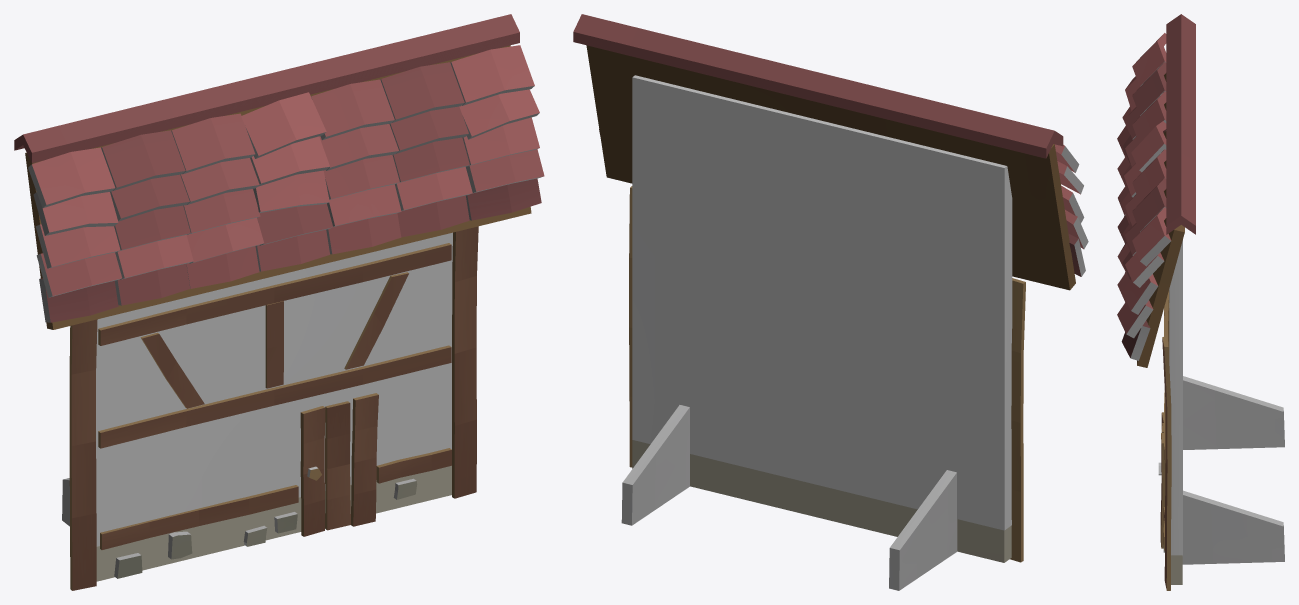
File: paper house plane 1.fbx
3 views of the same model, side by side, from view 1: azimuth 30°, elevation 25°; view 2: azimuth 150°, elevation 25°; view 3: azimuth 270°, elevation 25° (orthographic). The views are drawn at different scales.
Parts seen in each view (by area): view 1: Cube.071, Cube.264, Cube.080, Cube.244, Cube.306, Cube.245, Cube.076, Cube.082, Cube.246, Cube.079, Cube.260, Cube.240 (+22 smaller); view 2: Cube.071, Cube.243, Cube.264, Cube.248, Cube.306, Cube.080; view 3: Cube.248, Cube.264, Cube.071, Cube.244, Cube.243, Cube.245, Cube.246, Cube.080, Cube.247, Cube.079, Cube.256, Cube.260 (+8 smaller).
Part boxes in pixels (x1,y1,x2,y2): Cube.071: (96,232,452,546); Cube.264: (14,14,519,163); Cube.080: (69,226,478,590); Cube.244: (28,45,534,208); Cube.306: (96,465,451,581); Cube.245: (101,62,464,190); Cube.076: (98,345,451,448); Cube.082: (98,243,451,345); Cube.246: (171,79,394,174); Cube.079: (33,89,539,235); Cube.260: (35,117,539,268); Cube.240: (110,106,468,221); Cube.071: (632,75,1012,530); Cube.243: (586,45,1075,290); Cube.264: (573,14,1063,158); Cube.248: (621,405,957,590); Cube.306: (632,440,1011,562); Cube.080: (629,186,1025,562); Cube.248: (1182,376,1284,564); Cube.264: (1166,14,1195,234); Cube.071: (1169,240,1182,555); Cube.244: (1132,33,1171,266); Cube.243: (1137,73,1184,367); Cube.245: (1132,62,1166,231); Cube.246: (1132,91,1166,202); Cube.080: (1162,336,1171,590); Cube.247: (1131,121,1166,172); Cube.079: (1125,76,1164,287); Cube.256: (1117,126,1153,338); Cube.260: (1122,107,1158,314).
Size of the model in its own units: 904 by 812 by 313.
